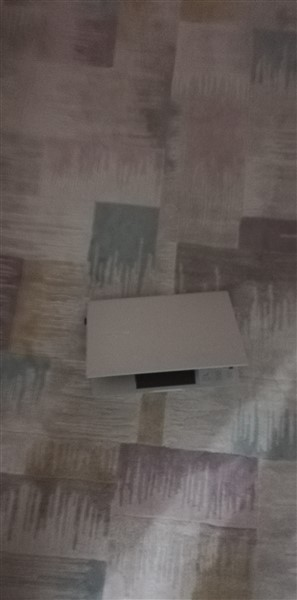laptop: (77, 294, 252, 387)
